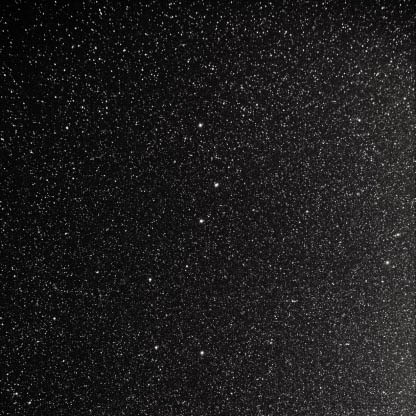Ursa Major: (144, 336, 166, 358), (208, 173, 225, 194), (194, 213, 210, 232), (193, 345, 209, 363), (142, 271, 155, 290), (180, 257, 193, 275), (194, 117, 206, 133)
